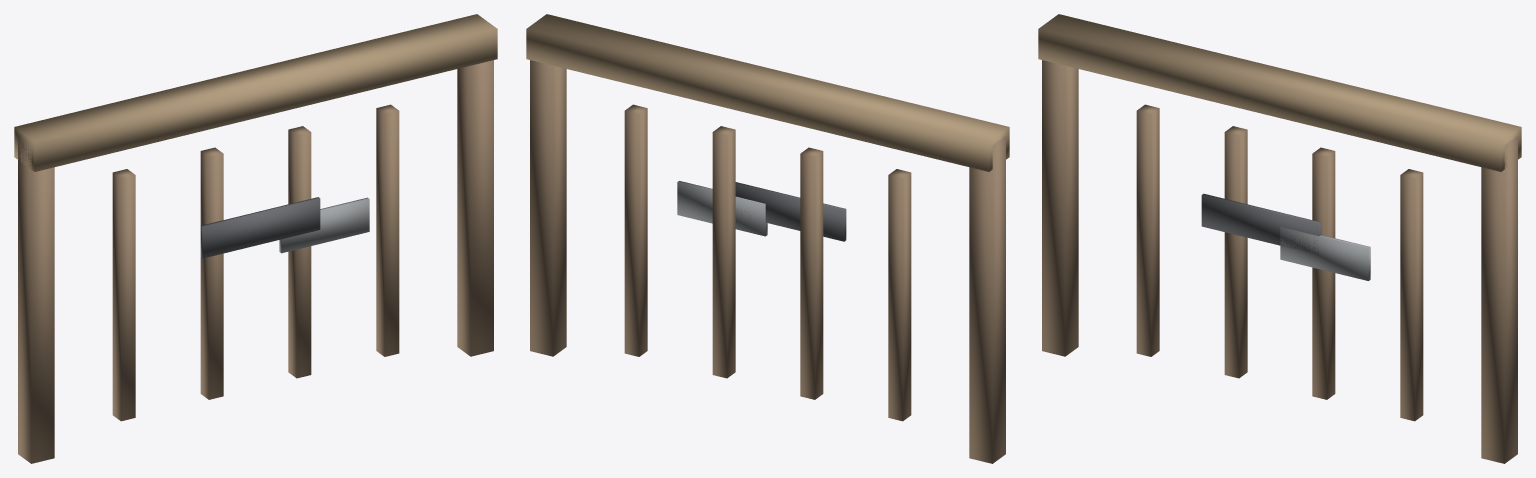
The model's file is court_rail__weathered.glb.
The picture shows the model from 3 angles, left to right: view 1: azimuth 30°, elevation 25°; view 2: azimuth 150°, elevation 25°; view 3: azimuth 330°, elevation 25°; orthographic projection.
Visible parts, largest first — view 1: world; view 2: world; view 3: world.
Part boxes in pixels (x1,y1,x2,y2): world: (14,14,497,463); world: (526,14,1009,463); world: (1038,14,1521,463).
Bounding box in the file's own units: 1.58 × 1.06 × 0.134.
